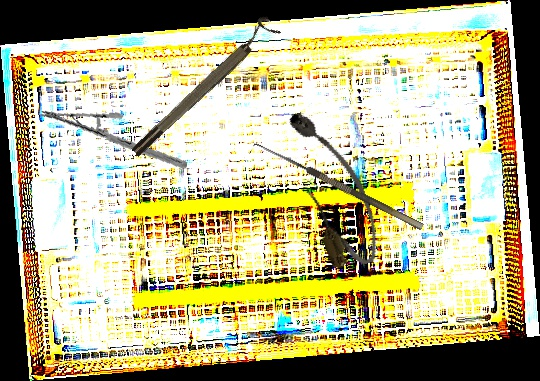Cannula: (278, 100, 389, 276)
Fixation Ring: (123, 13, 282, 160)
Hook Surgical: (248, 138, 425, 240)
Needle Holder: (40, 87, 188, 191)
